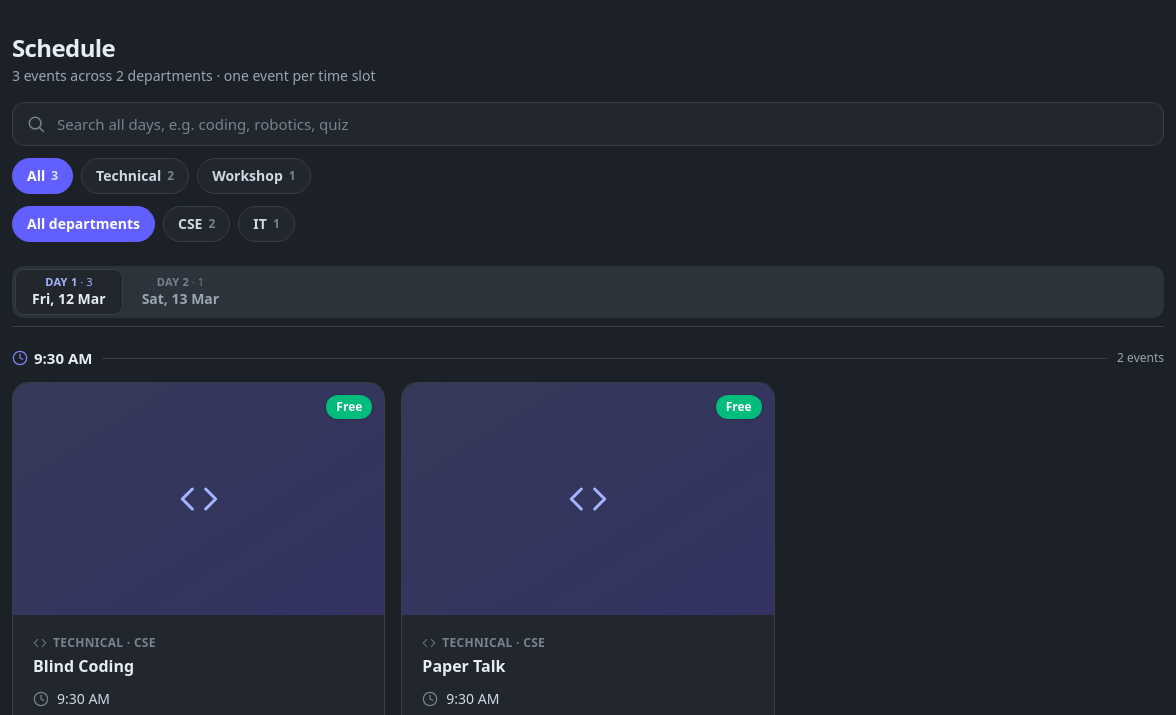
Scenario: EventCatalog as a schedule › opens on the fest's first day (no extra request), groups by start time, and switches days
Check: the heading "Blind Coding" is shown, box [33,655,134,677]
Step 1. Click the tab "Day 2 · 1 Sat, 13 Mar" → (180, 292), box [126,270,235,314]
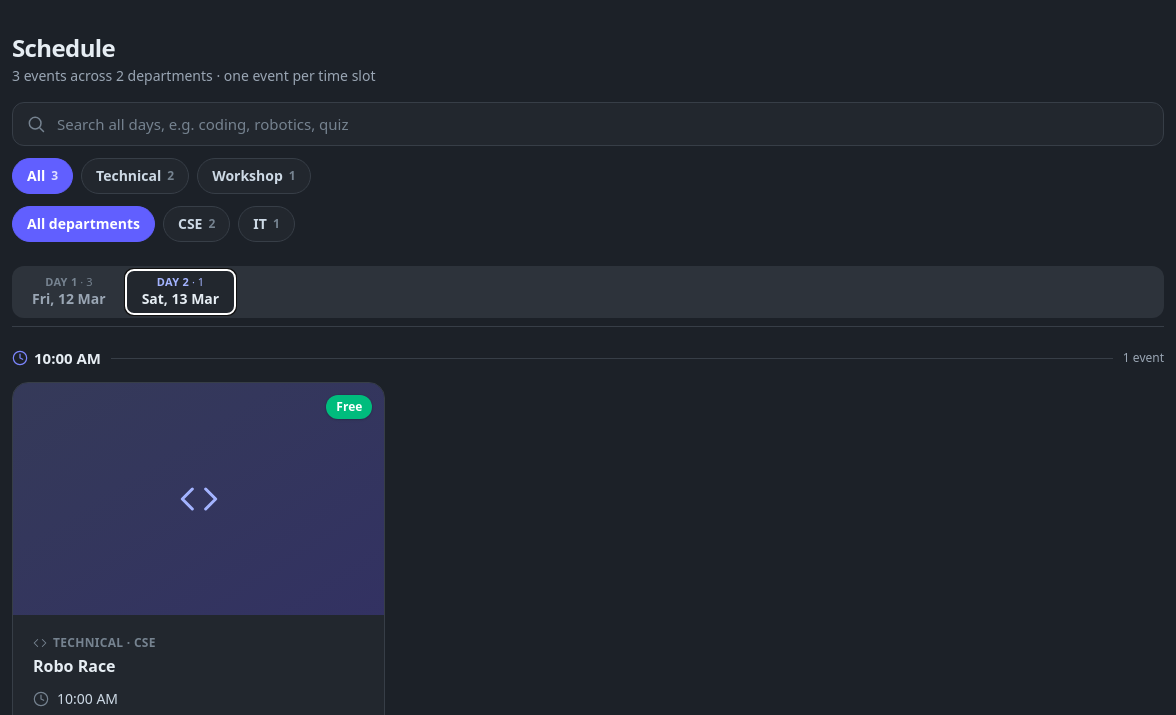
Check: the heading "Robo Race" is shown, box [33,655,116,677]
